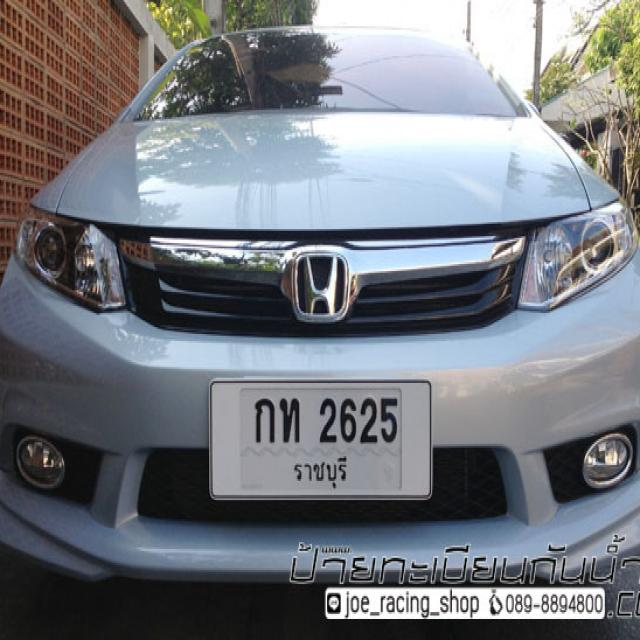license_plate: (205, 371, 437, 507)
